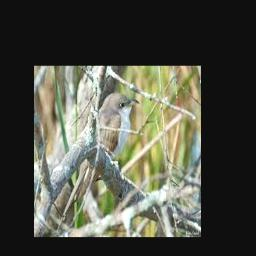Cuckoo: (67, 93, 140, 206)
